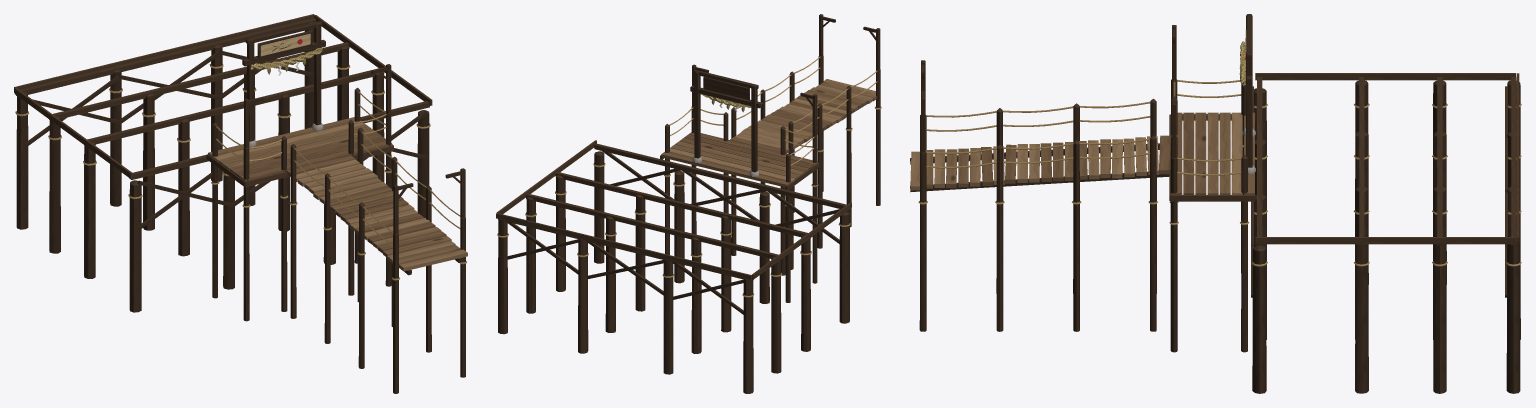
Rendered from sushi-bar-pier.glb.
The picture shows the model from 3 angles, left to right: view 1: azimuth 30°, elevation 25°; view 2: azimuth 150°, elevation 25°; view 3: azimuth 270°, elevation 25°; orthographic projection. The views are drawn at different scales.
Parts seen in each view (by area): view 1: sushi-bar-pier; view 2: sushi-bar-pier; view 3: sushi-bar-pier.
Part boxes in pixels (bbox=[...]): sushi-bar-pier: bbox=[14, 14, 467, 393]; sushi-bar-pier: bbox=[496, 14, 881, 393]; sushi-bar-pier: bbox=[910, 14, 1521, 393].
Size of the model in its own units: 9 by 7.06 by 14.09.
4 materials, 2 textured.
